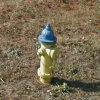Hydrant: (31, 20, 65, 94)
